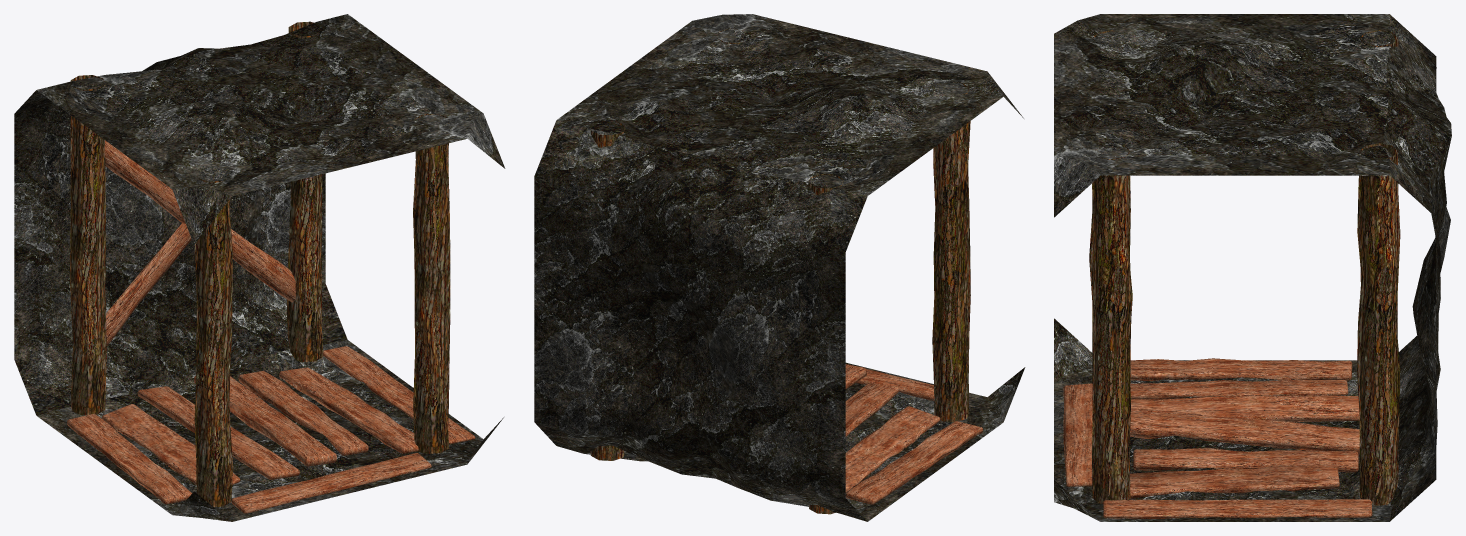
File: Cave_012.fbx
3 views of the same model, side by side, from view 1: azimuth 30°, elevation 25°; view 2: azimuth 150°, elevation 25°; view 3: azimuth 270°, elevation 25° (orthographic). The views are drawn at different scales.
Parts seen in each view (by area): view 1: Cave.012; view 2: Cave.012; view 3: Cave.012.
Part boxes in pixels (left/top/right/bottom): Cave.012: left=14, top=14, right=505, bottom=521; Cave.012: left=534, top=14, right=1025, bottom=521; Cave.012: left=1054, top=14, right=1451, bottom=521.
Bounding box in the file's own units: 300 × 328 × 312.
